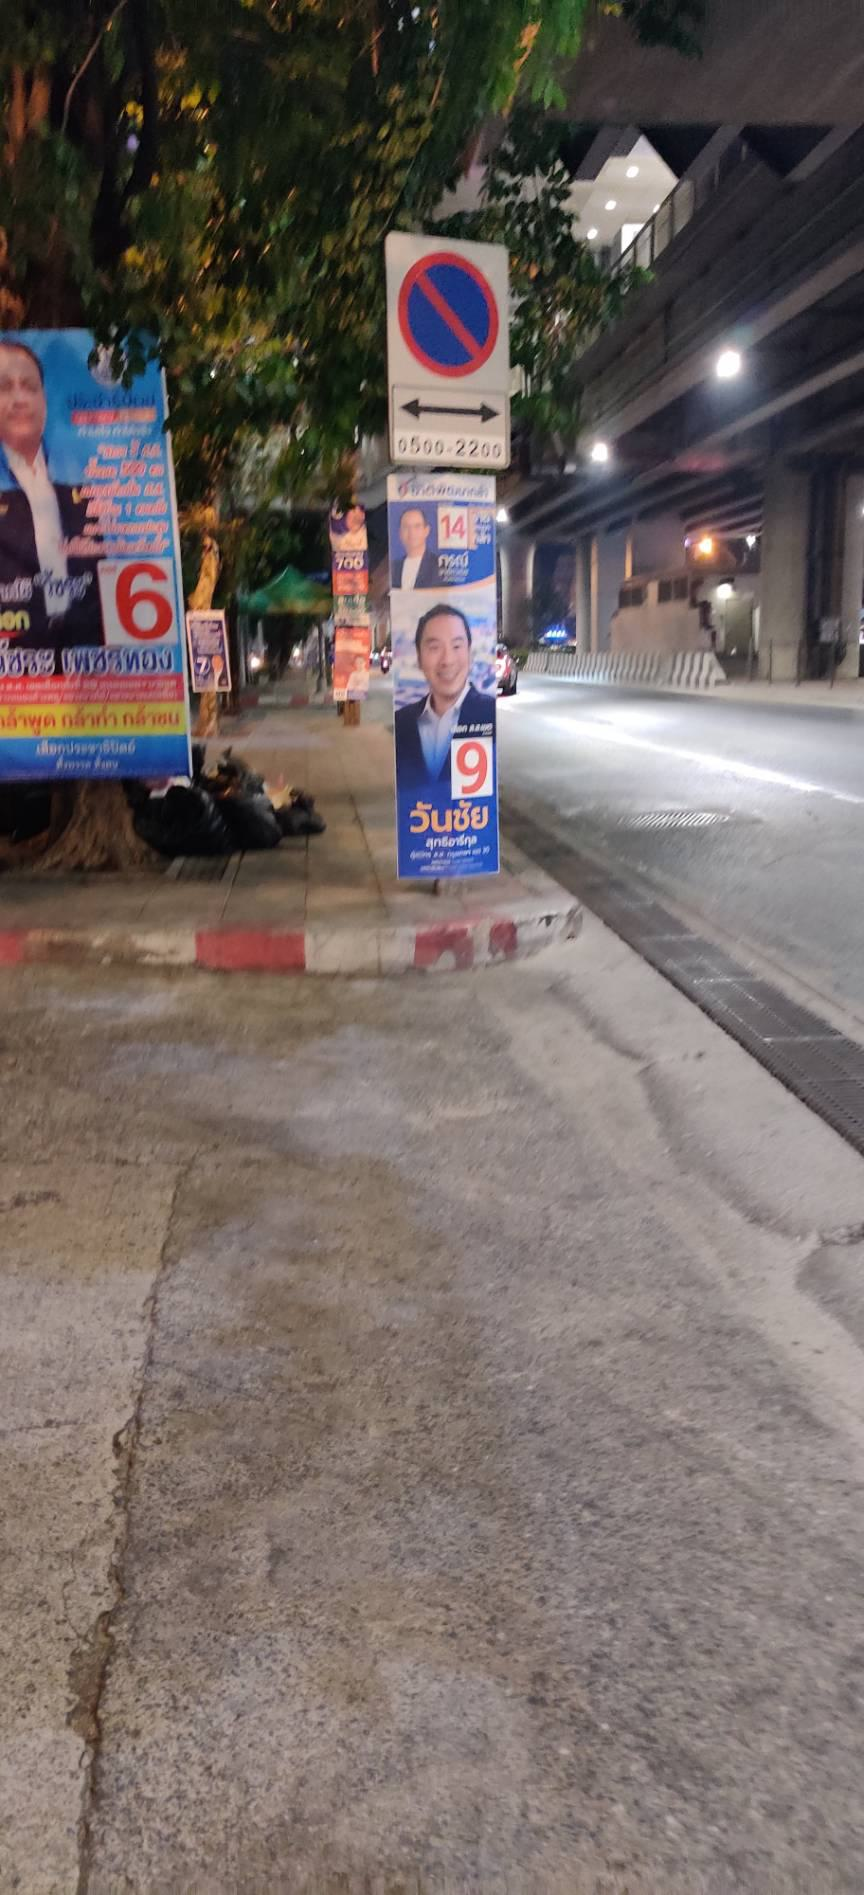Banner: (1, 323, 211, 757), (369, 475, 508, 881)
